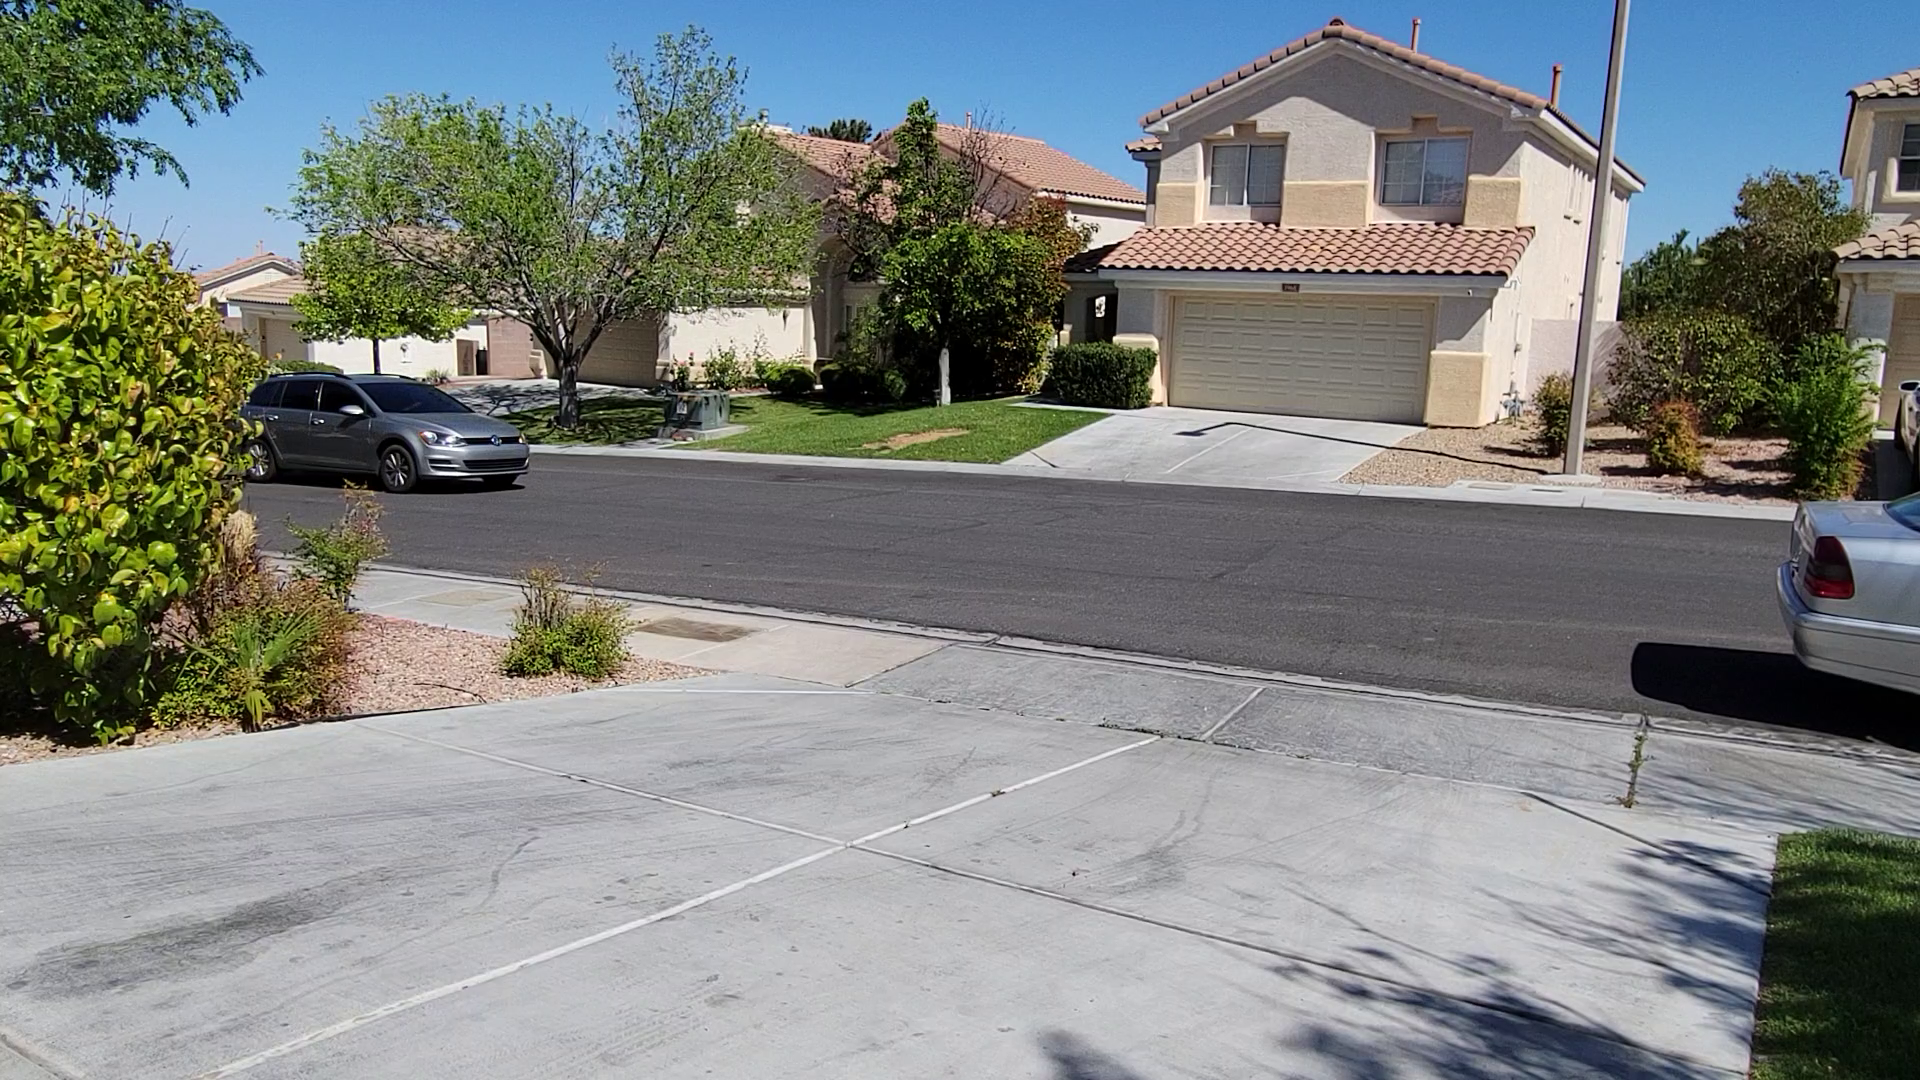car: (239, 371, 533, 495)
